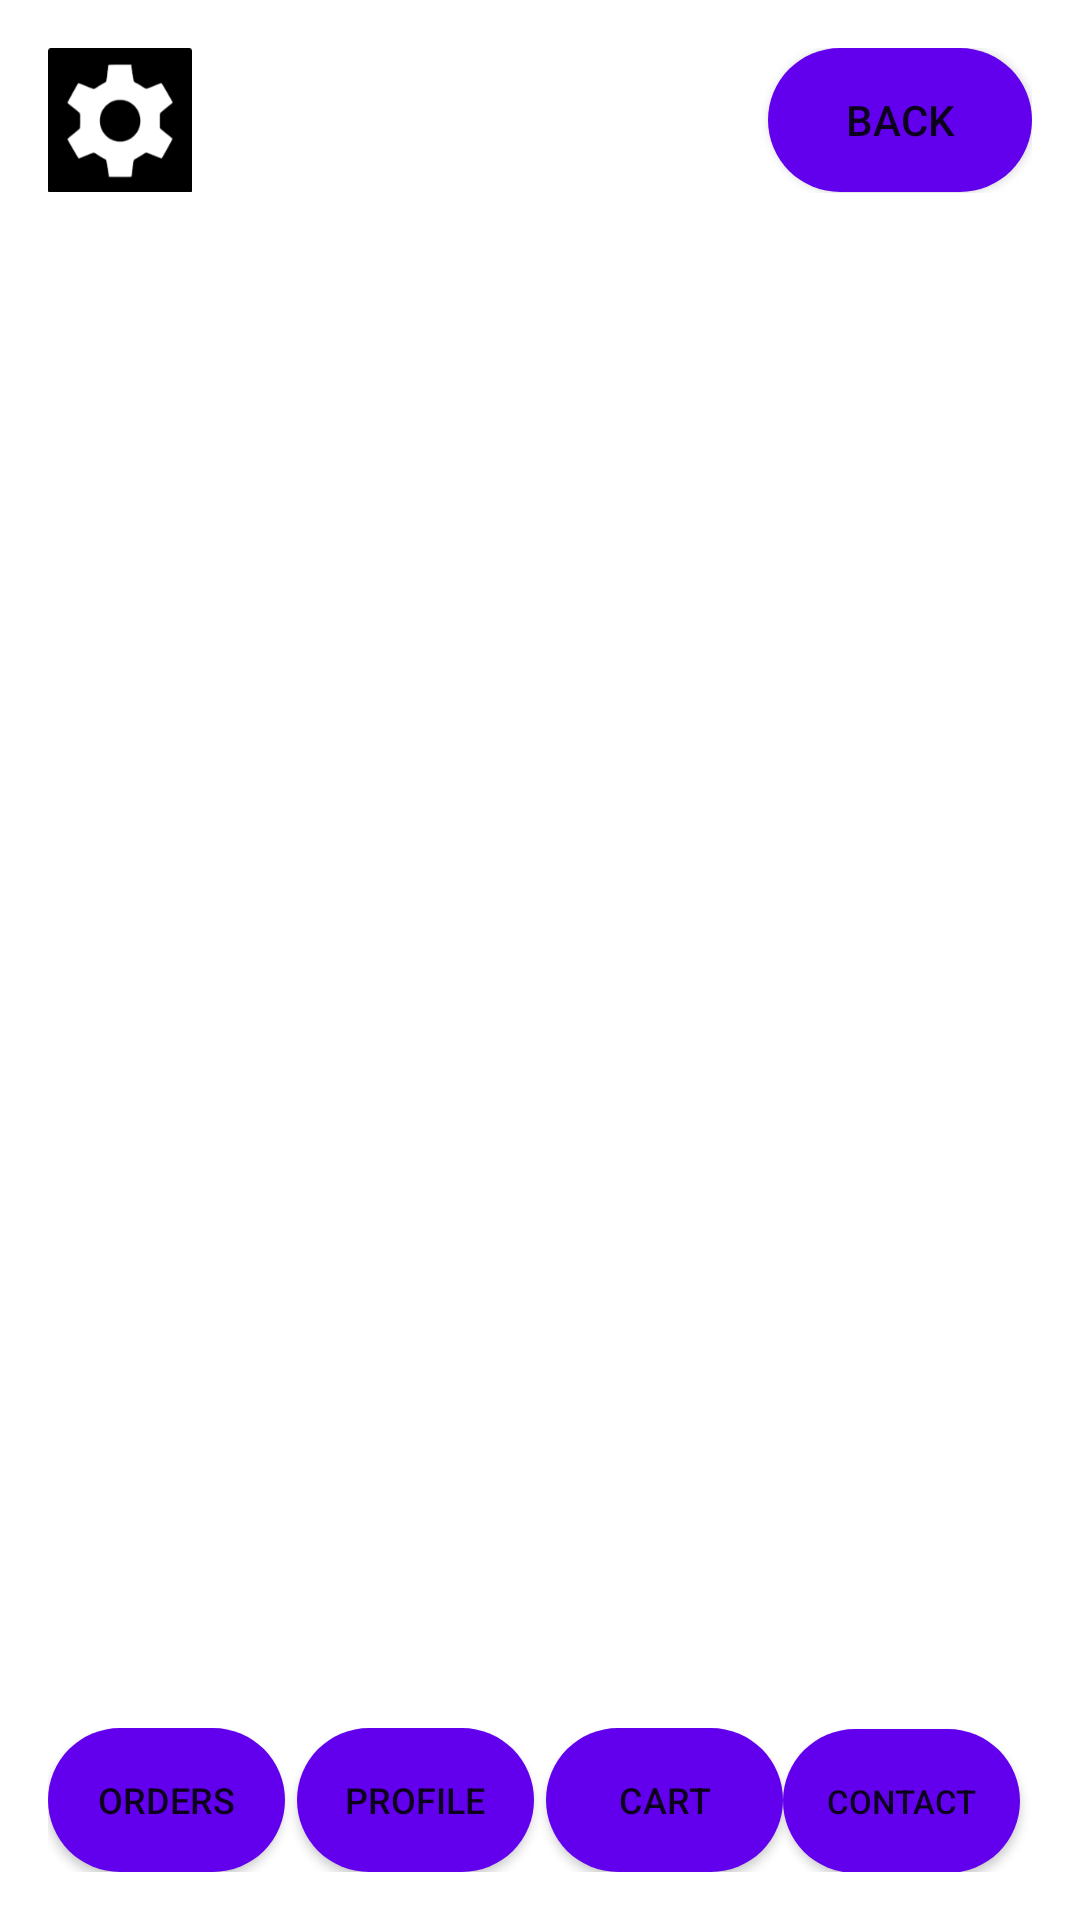

Where icons sit on this 1080px×1920px app screen, as box(x1, y1, x2, y2):
setting: box(48, 48, 192, 192)
